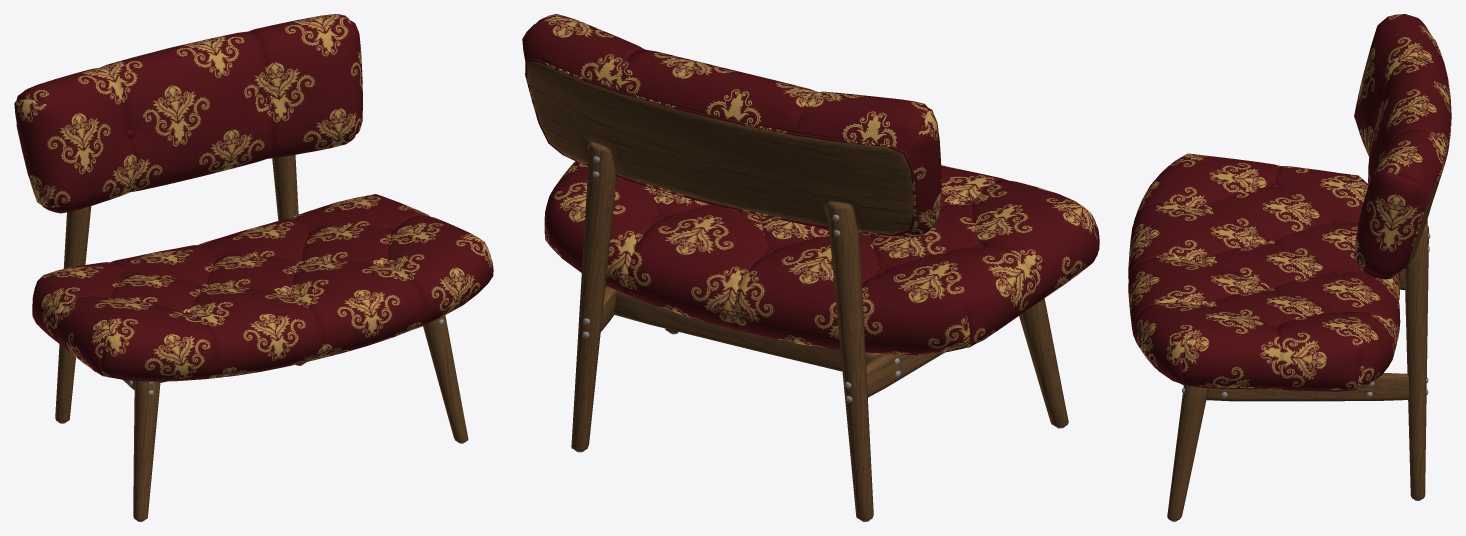
Rendered from ChairDamaskPurplegold.gltf.
The picture shows the model from 3 angles, left to right: view 1: azimuth 30°, elevation 25°; view 2: azimuth 150°, elevation 25°; view 3: azimuth 270°, elevation 25°; orthographic projection. The views are drawn at different scales.
Visible parts, largest first — view 1: oval-tufted-chair_seat-fabric, oval-tufted-chair_back-fabric, oval-tufted-chair_legs-frame; view 2: oval-tufted-chair_seat-fabric, oval-tufted-chair_back-panel, oval-tufted-chair_legs-frame, oval-tufted-chair_back-fabric, oval-tufted-chair_back-welt; view 3: oval-tufted-chair_seat-fabric, oval-tufted-chair_back-fabric, oval-tufted-chair_legs-frame, oval-tufted-chair_back-welt, oval-tufted-chair_back-panel.
Part boxes in pixels (bbox=[...]): oval-tufted-chair_seat-fabric: bbox=[32, 194, 493, 380]; oval-tufted-chair_back-fabric: bbox=[14, 14, 362, 213]; oval-tufted-chair_legs-frame: bbox=[55, 154, 468, 520]; oval-tufted-chair_seat-fabric: bbox=[544, 161, 1099, 354]; oval-tufted-chair_back-panel: bbox=[527, 62, 913, 234]; oval-tufted-chair_legs-frame: bbox=[571, 142, 1068, 520]; oval-tufted-chair_back-fabric: bbox=[522, 14, 941, 237]; oval-tufted-chair_back-welt: bbox=[525, 58, 916, 236]; oval-tufted-chair_seat-fabric: bbox=[1128, 153, 1400, 390]; oval-tufted-chair_back-fabric: bbox=[1354, 14, 1450, 279]; oval-tufted-chair_legs-frame: bbox=[1167, 219, 1428, 520]; oval-tufted-chair_back-welt: bbox=[1404, 39, 1451, 268]; oval-tufted-chair_back-panel: bbox=[1407, 169, 1443, 266].
Bounding box in the file's own units: 0.8286 × 0.6874 × 0.5718.
4 materials, 3 textured.
